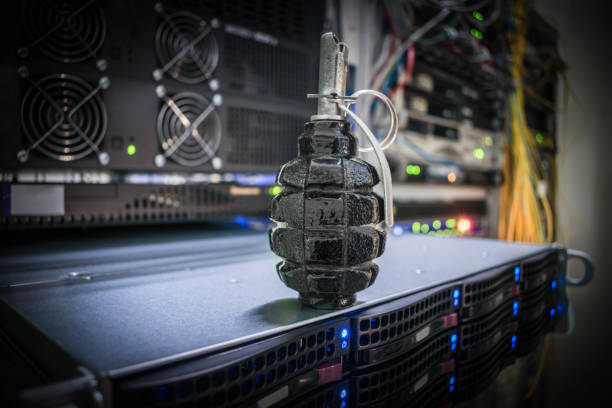e1: (271, 32, 396, 313)
